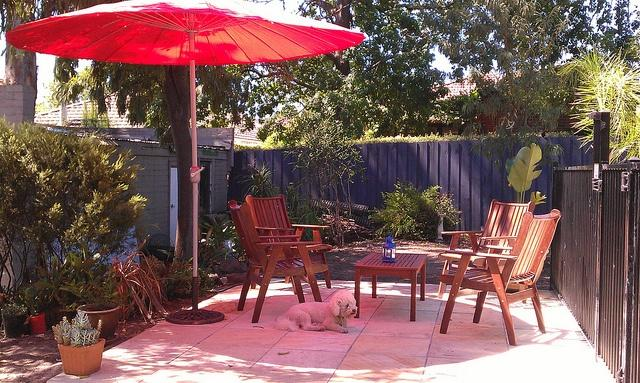Meja: (353, 250, 426, 322)
